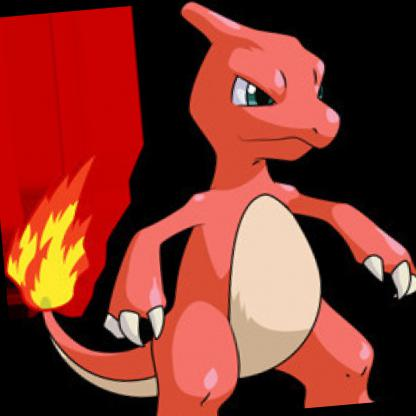Charmeleon: (1, 1, 416, 416), (1, 3, 416, 416)
